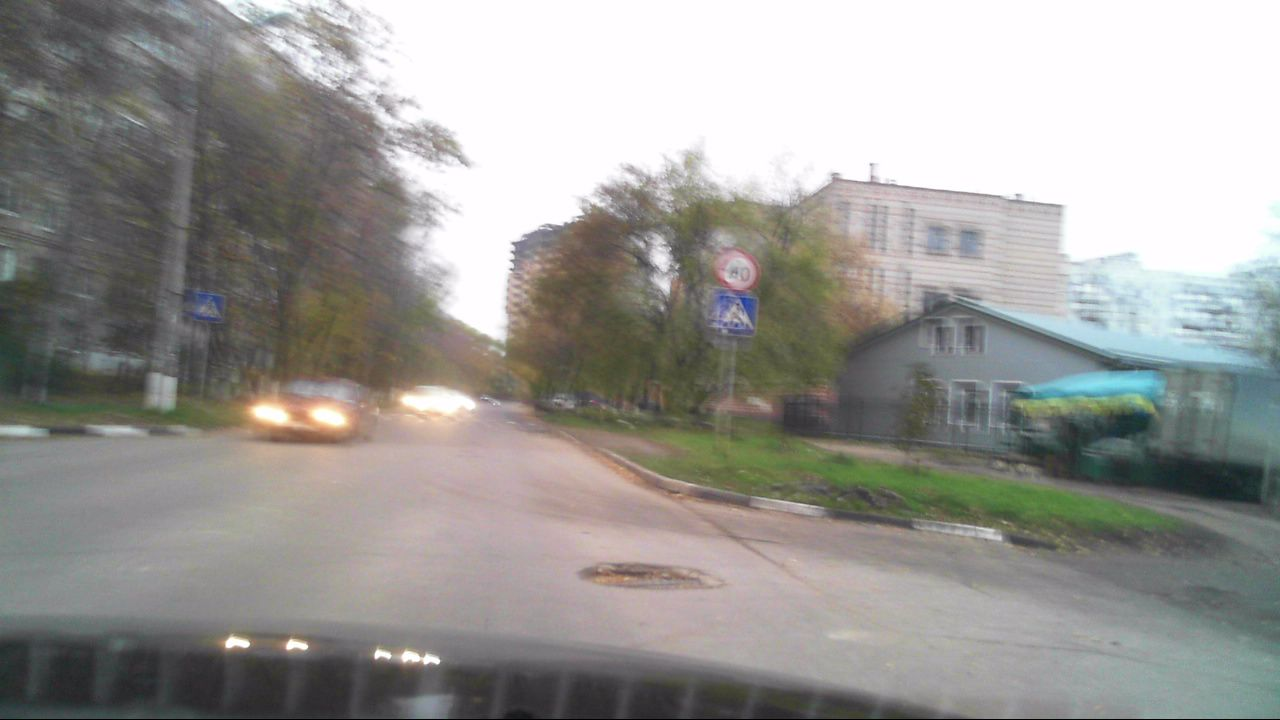speed_warning_40: (718, 253, 757, 290)
